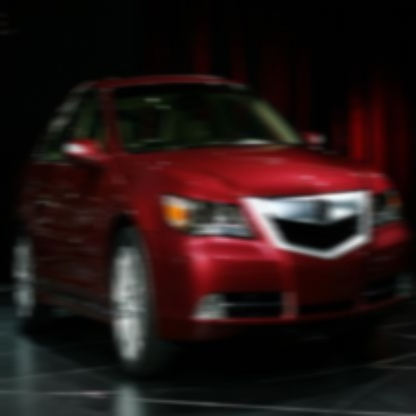Vehicle: (8, 73, 410, 385)
